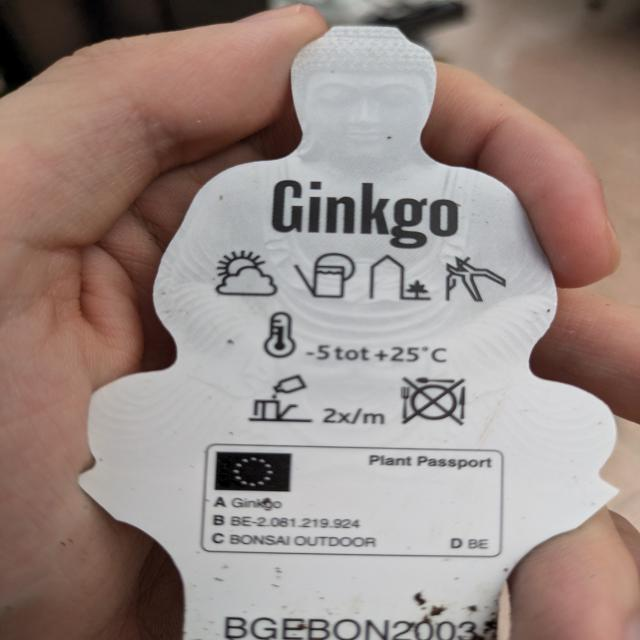dungen: (244, 368, 386, 440)
halb sonnig schattig: (216, 248, 284, 304)
viel giesen: (284, 249, 362, 301)
